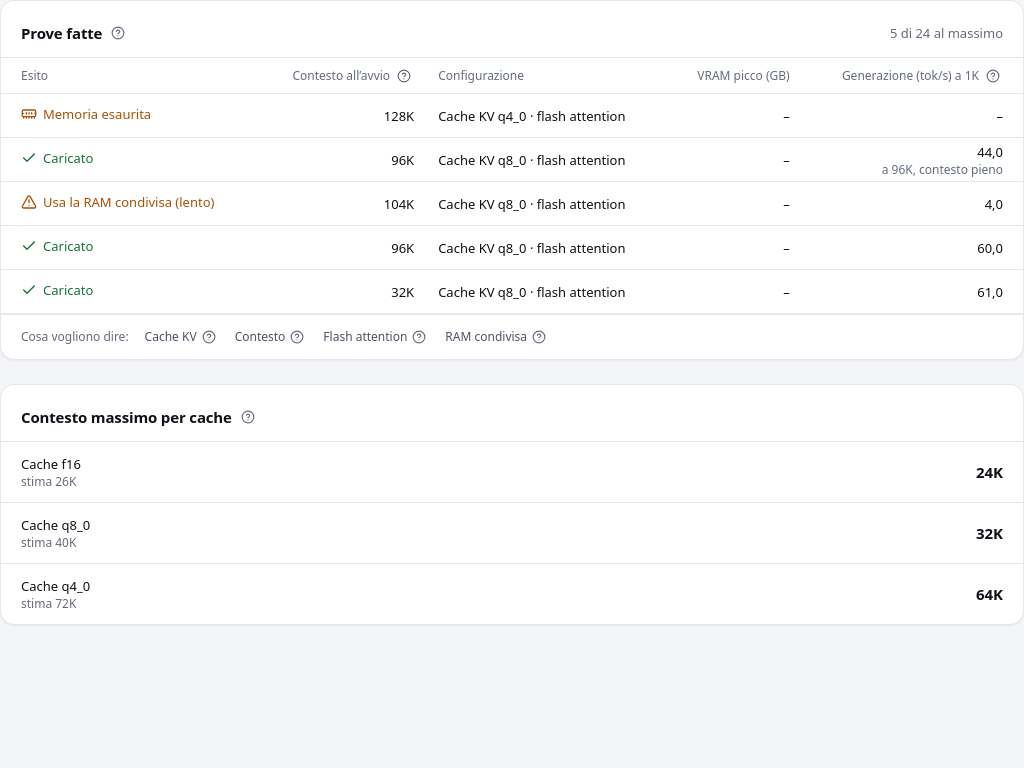
Test: the attempts table of the live screen › the quick check after every start is said once, in the header; the context column is the one the engine started with
This screenshot has width=1024, height=768.
Expected: the table "Prove fatte" does not show "di contesto"
Click the button named "Che cos’è «Generazione (tok/s) a 1K»?": (993, 76) [983,66,1003,86]
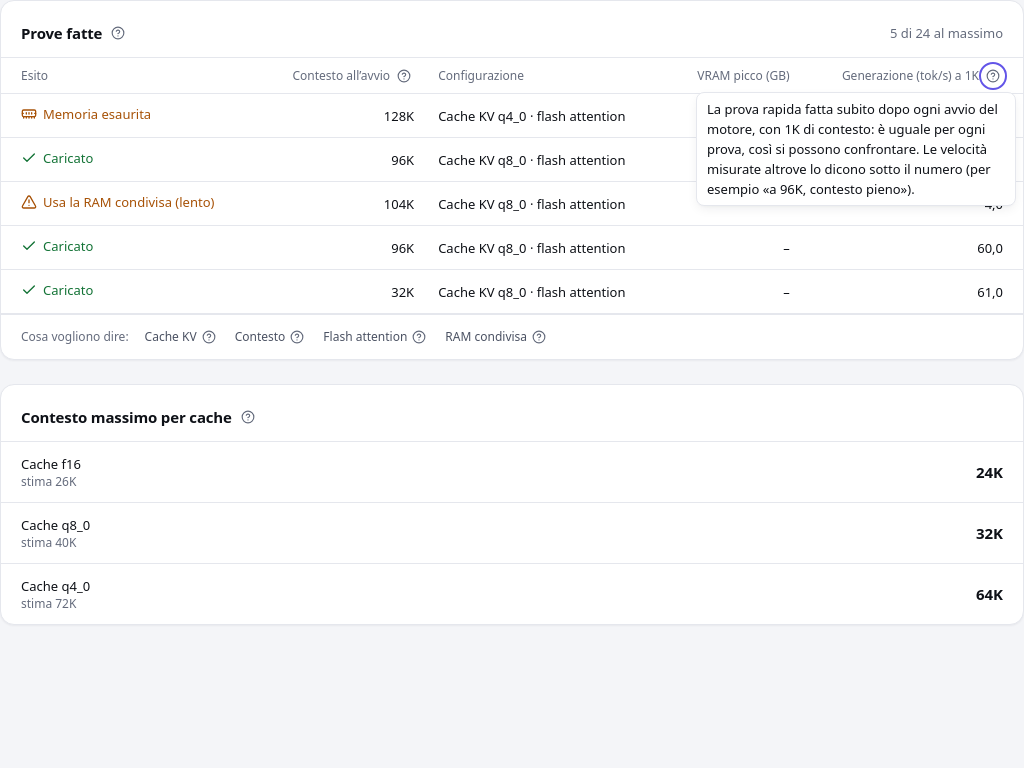
Expected: the tooltip "La prova rapida fatta subito dopo ogni avvio del motore, con 1K di contesto" is shown, [707,100,998,198]
Click the button named "Che cos’è «Contesto all’avvio»?": (404, 76) [394,66,414,86]
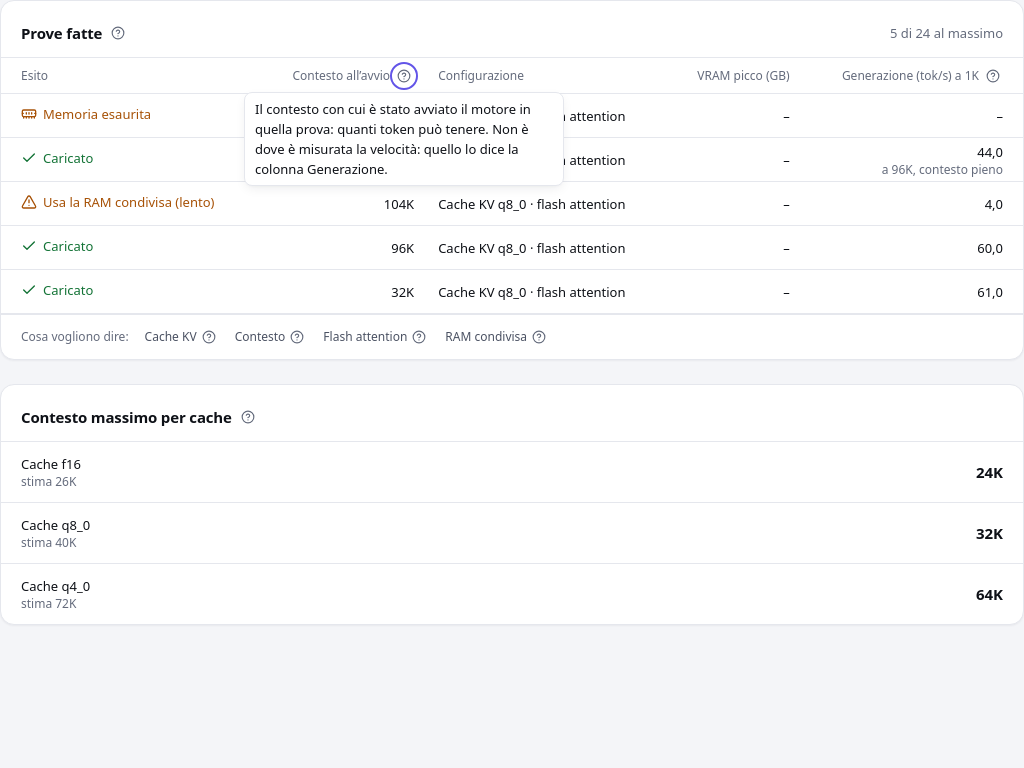
Expected: the tooltip "Il contesto con cui è stato avviato il motore in quella prova" is shown, [255,100,531,178]
